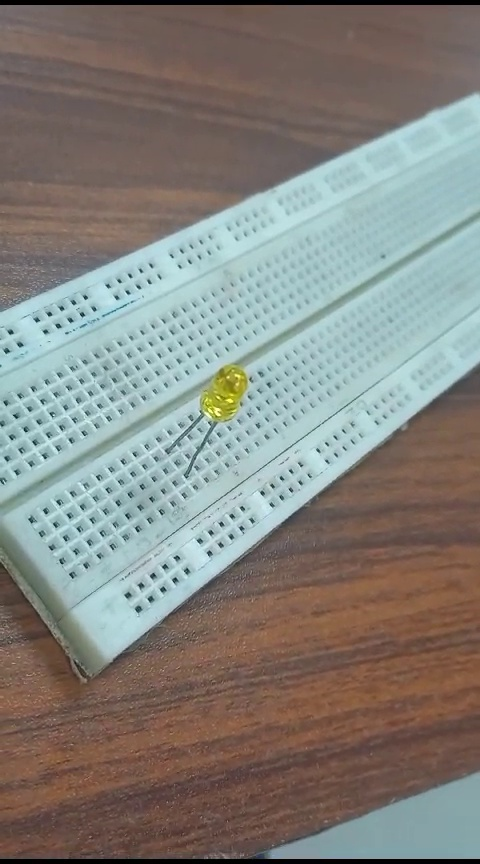LED: (180, 359, 248, 483)
